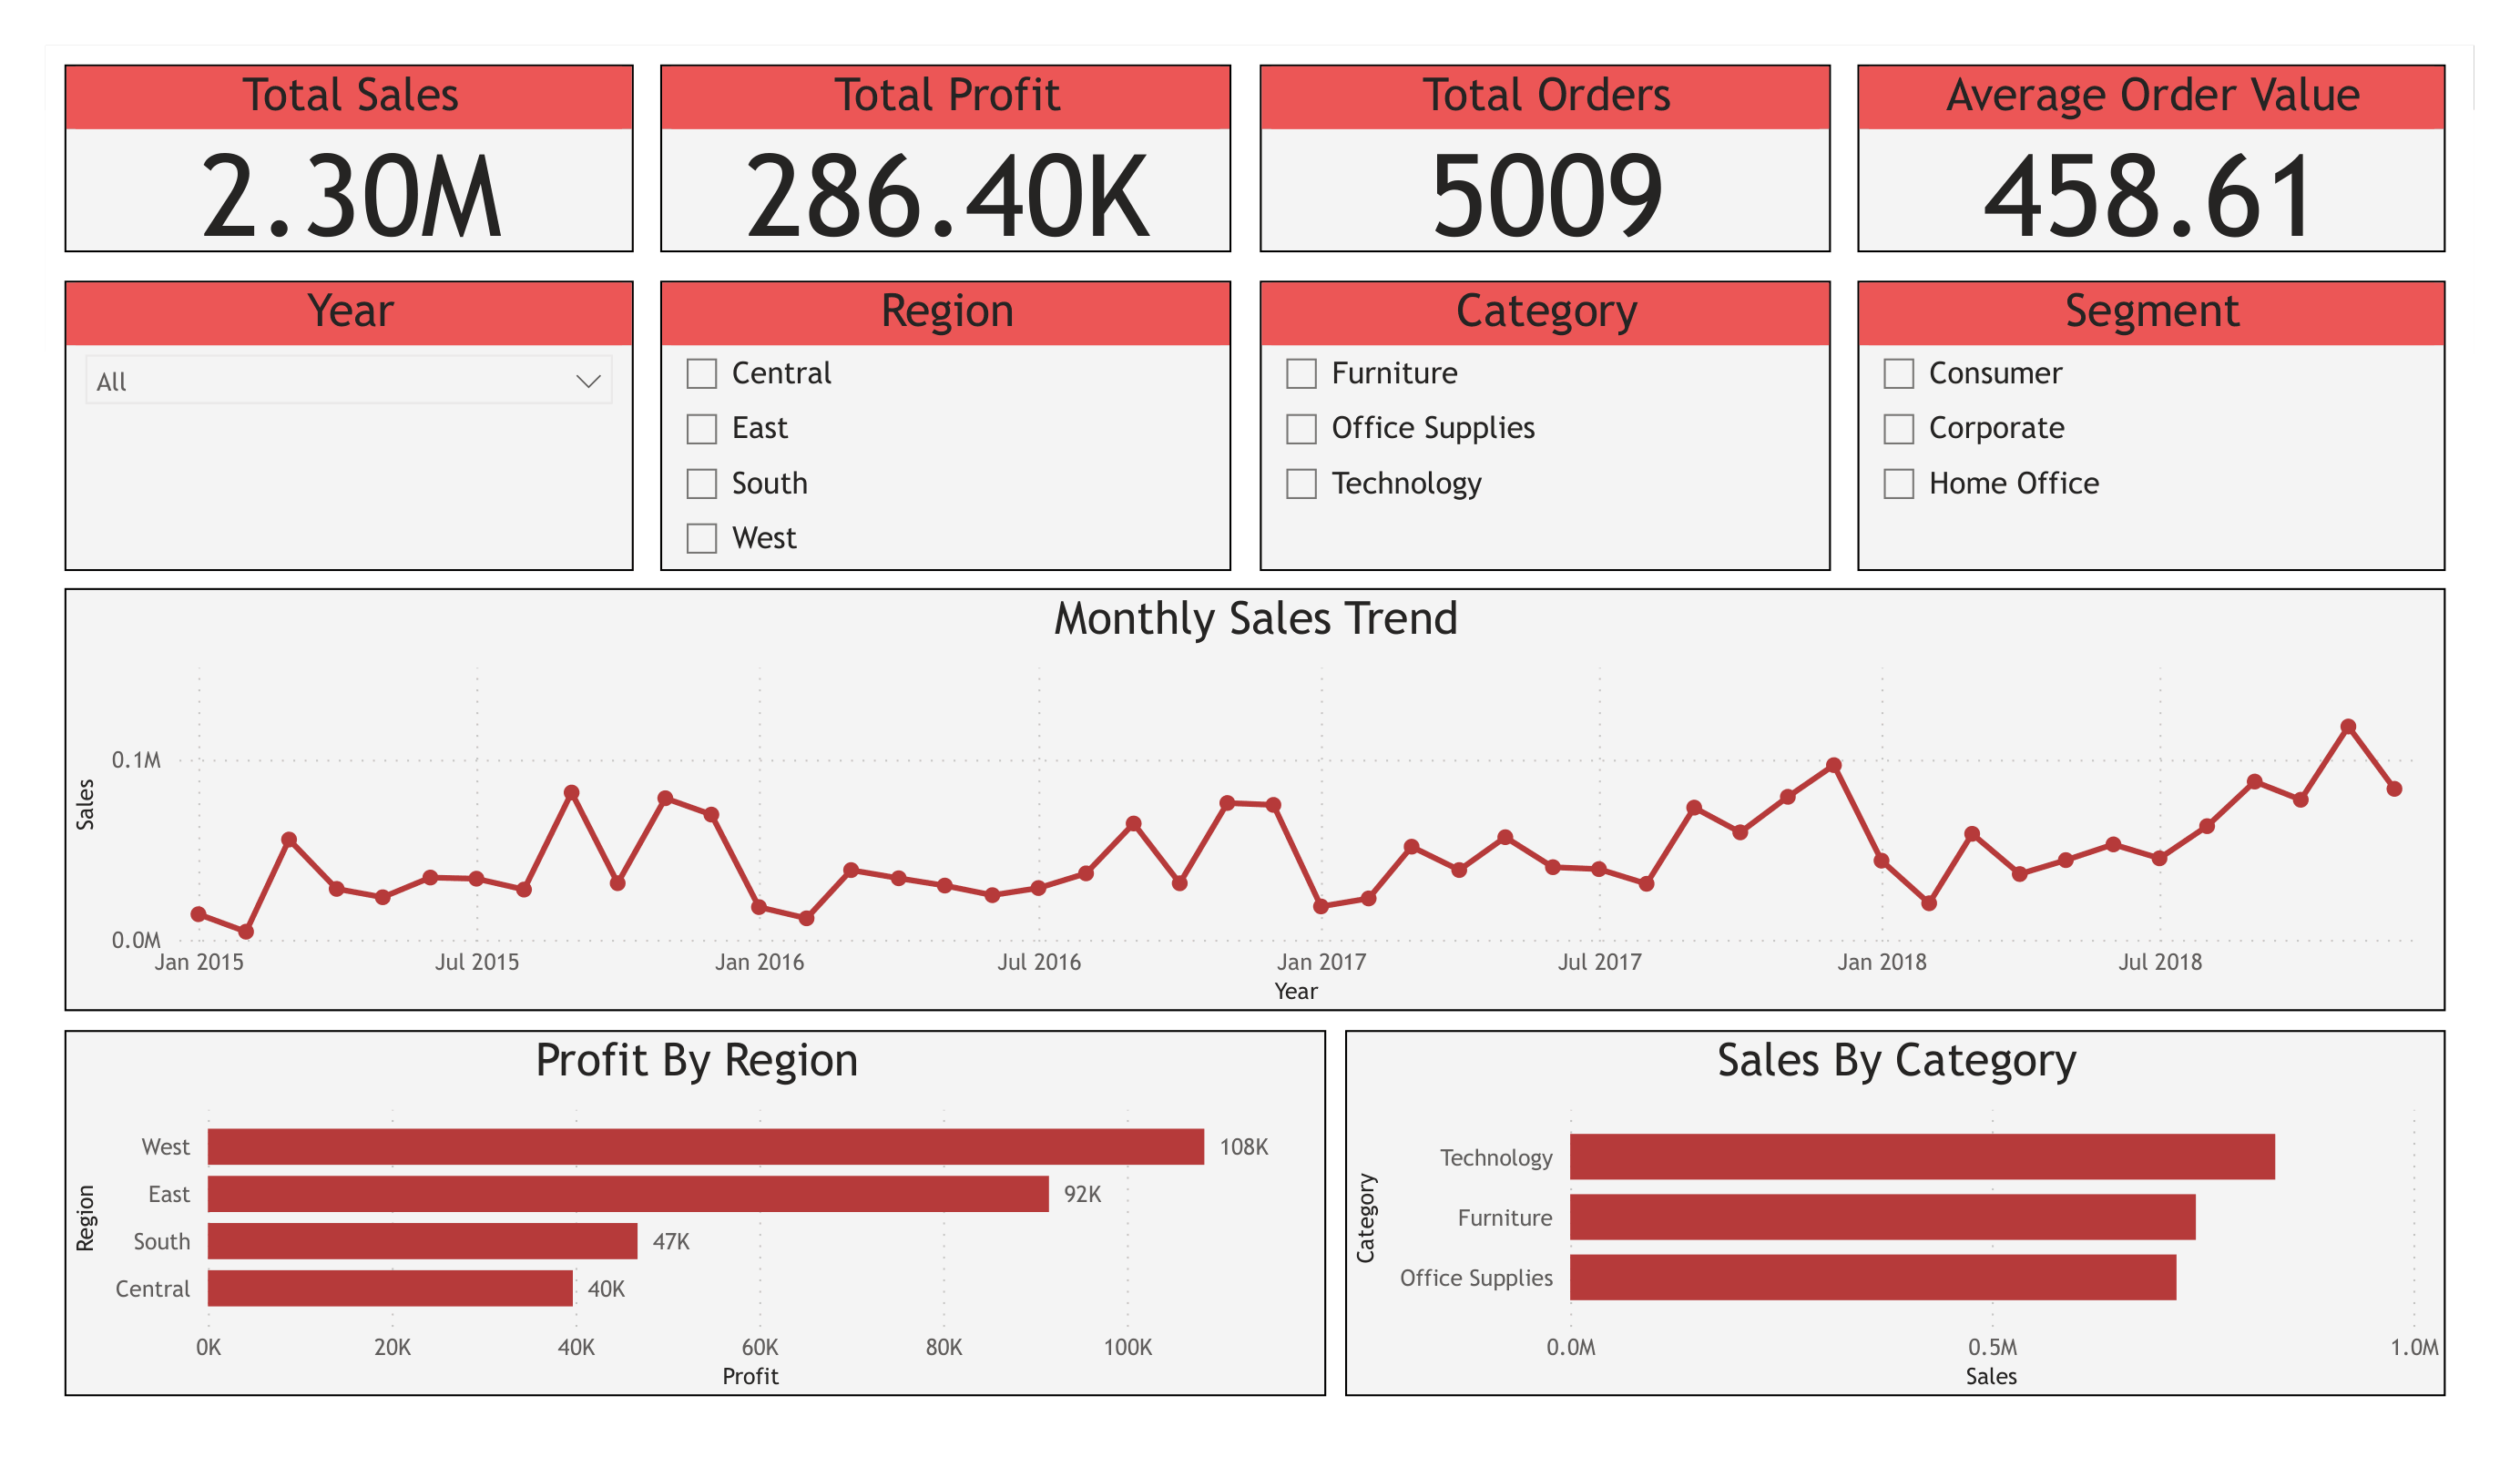

The dashboard page shown, as its layout file describes it:
{"tool":"powerbi","page":{"name":"Executive Overview","canvas":[1280,720],"ordinal":0},"visuals":[{"type":"card","title":"Total Sales","fields":{"Values":["Sum(superstore_cleaned.Sales)"]},"box":[9.6,9.6,300,98.9],"z":0},{"type":"card","title":"Total Profit","fields":{"Values":["Sum(superstore_cleaned.Profit)"]},"box":[324.4,9.6,300.3,98.9],"z":1000},{"type":"card","title":"Total Orders","fields":{"Values":["Count(superstore_cleaned.Order ID)"]},"box":[640.4,9.6,300.3,98.9],"z":2000},{"type":"card","title":"Average Order Value","fields":{"Values":["superstore_cleaned.Average Order Value"]},"box":[955.2,9.6,309.9,98.9],"z":3000},{"type":"lineChart","title":"Monthly Sales Trend","fields":{"Y":["Sum(superstore_cleaned.Sales)"],"Category":["superstore_cleaned.Order Date.Variation.Date Hierarchy.Year","superstore_cleaned.Order Date.Variation.Date Hierarchy.Month"]},"box":[9.6,285.8,1255.5,223.1],"z":4000},{"type":"clusteredBarChart","title":"Sales By Category","fields":{"Category":["superstore_cleaned.Category"],"Y":["Sum(superstore_cleaned.Sales)"]},"box":[685,518.6,580.1,193],"z":5000},{"type":"clusteredBarChart","title":"Profit By Region","fields":{"Category":["superstore_cleaned.Region"],"Y":["Sum(superstore_cleaned.Profit)"]},"box":[9.6,518.6,665.7,193],"z":6000},{"type":"slicer","title":"Year","fields":{"Values":["superstore_cleaned.Year"]},"box":[9.6,124.2,300.3,153.2],"z":7000},{"type":"slicer","title":"Region","fields":{"Values":["superstore_cleaned.Region"]},"box":[324.4,124.2,300.3,153.2],"z":8000},{"type":"slicer","title":"Category","fields":{"Values":["superstore_cleaned.Category"]},"box":[640.4,124.2,300.3,153.2],"z":9000},{"type":"slicer","title":"Segment","fields":{"Values":["superstore_cleaned.Segment"]},"box":[955.2,124.2,309.9,153.2],"z":10000}]}

Visuals, with their boxes on the page's 1280x720 design canvas (x1, y1, x2, y2). These are canvas units, not pixel positions in the 2520x1457 screenshot, which may show the page scaled, cropped or inside an application window:
"Total Sales" card: {"x1": 10, "y1": 10, "x2": 310, "y2": 108}
"Total Profit" card: {"x1": 324, "y1": 10, "x2": 625, "y2": 108}
"Total Orders" card: {"x1": 640, "y1": 10, "x2": 941, "y2": 108}
"Average Order Value" card: {"x1": 955, "y1": 10, "x2": 1265, "y2": 108}
"Monthly Sales Trend" lineChart: {"x1": 10, "y1": 286, "x2": 1265, "y2": 509}
"Sales By Category" clusteredBarChart: {"x1": 685, "y1": 519, "x2": 1265, "y2": 712}
"Profit By Region" clusteredBarChart: {"x1": 10, "y1": 519, "x2": 675, "y2": 712}
"Year" slicer: {"x1": 10, "y1": 124, "x2": 310, "y2": 277}
"Region" slicer: {"x1": 324, "y1": 124, "x2": 625, "y2": 277}
"Category" slicer: {"x1": 640, "y1": 124, "x2": 941, "y2": 277}
"Segment" slicer: {"x1": 955, "y1": 124, "x2": 1265, "y2": 277}
